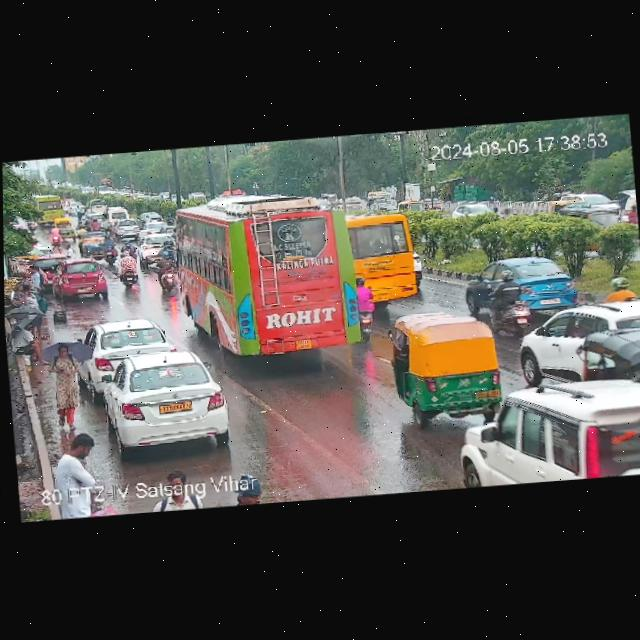bus: (163, 187, 359, 362), (347, 209, 425, 302)
car: (455, 372, 640, 487), (384, 305, 506, 427), (95, 344, 231, 450), (517, 297, 640, 381), (457, 253, 585, 317), (517, 301, 640, 347), (85, 316, 178, 371), (571, 321, 640, 384), (51, 256, 110, 299), (545, 190, 588, 212), (76, 231, 109, 256), (452, 200, 493, 218), (111, 218, 142, 239), (34, 251, 68, 270), (140, 234, 159, 265), (56, 216, 77, 238), (79, 230, 109, 245), (85, 196, 106, 216), (86, 241, 108, 258), (136, 222, 158, 238), (106, 207, 129, 221)
motorcycle: (487, 265, 535, 335), (357, 275, 376, 344), (116, 254, 143, 291), (604, 276, 637, 300), (157, 247, 175, 290), (75, 214, 102, 232), (48, 221, 62, 247), (144, 212, 163, 220)
person: (51, 340, 81, 430), (55, 428, 99, 483), (15, 324, 45, 363), (22, 285, 42, 339), (232, 476, 267, 505), (167, 475, 194, 510), (25, 262, 42, 293), (65, 243, 73, 257)
